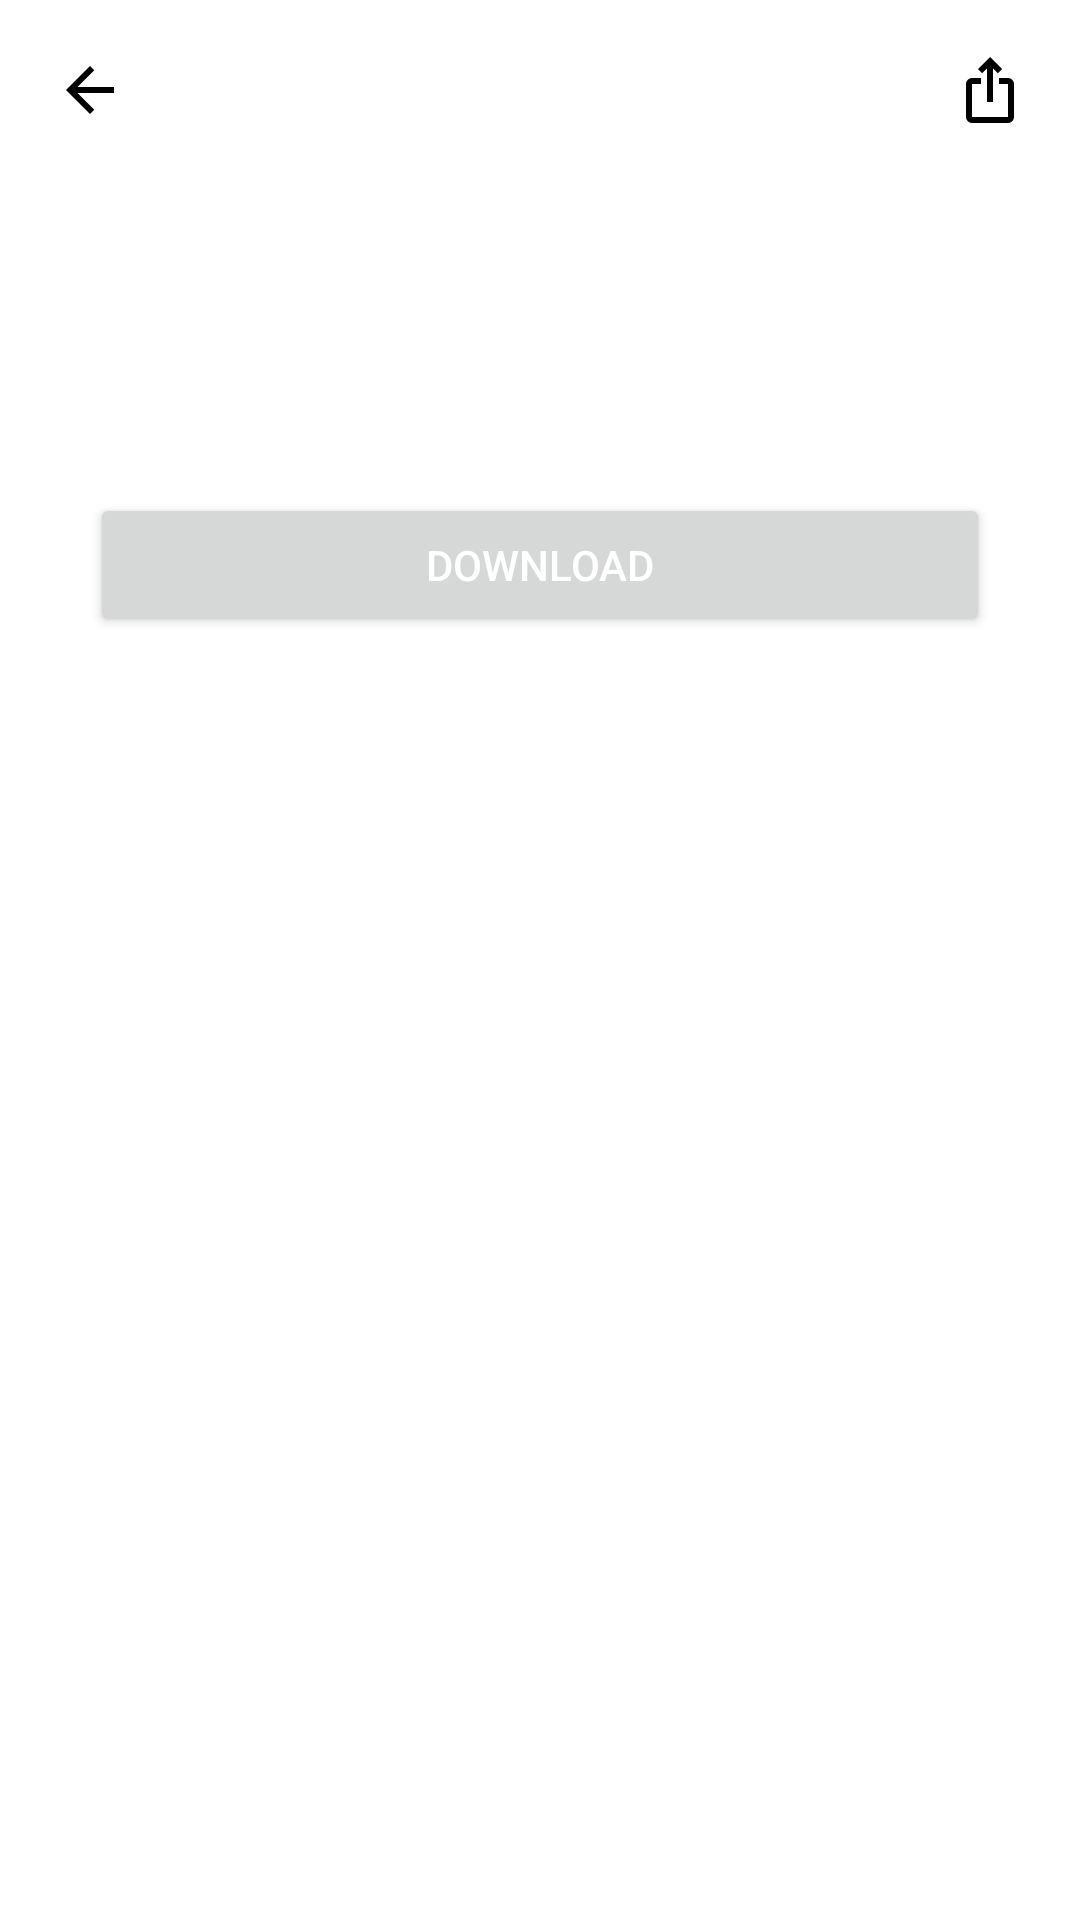

Named icons in this screenshot (1080×1920) and their centers, [x,y]:
back: [90,90]
share: [990,90]
